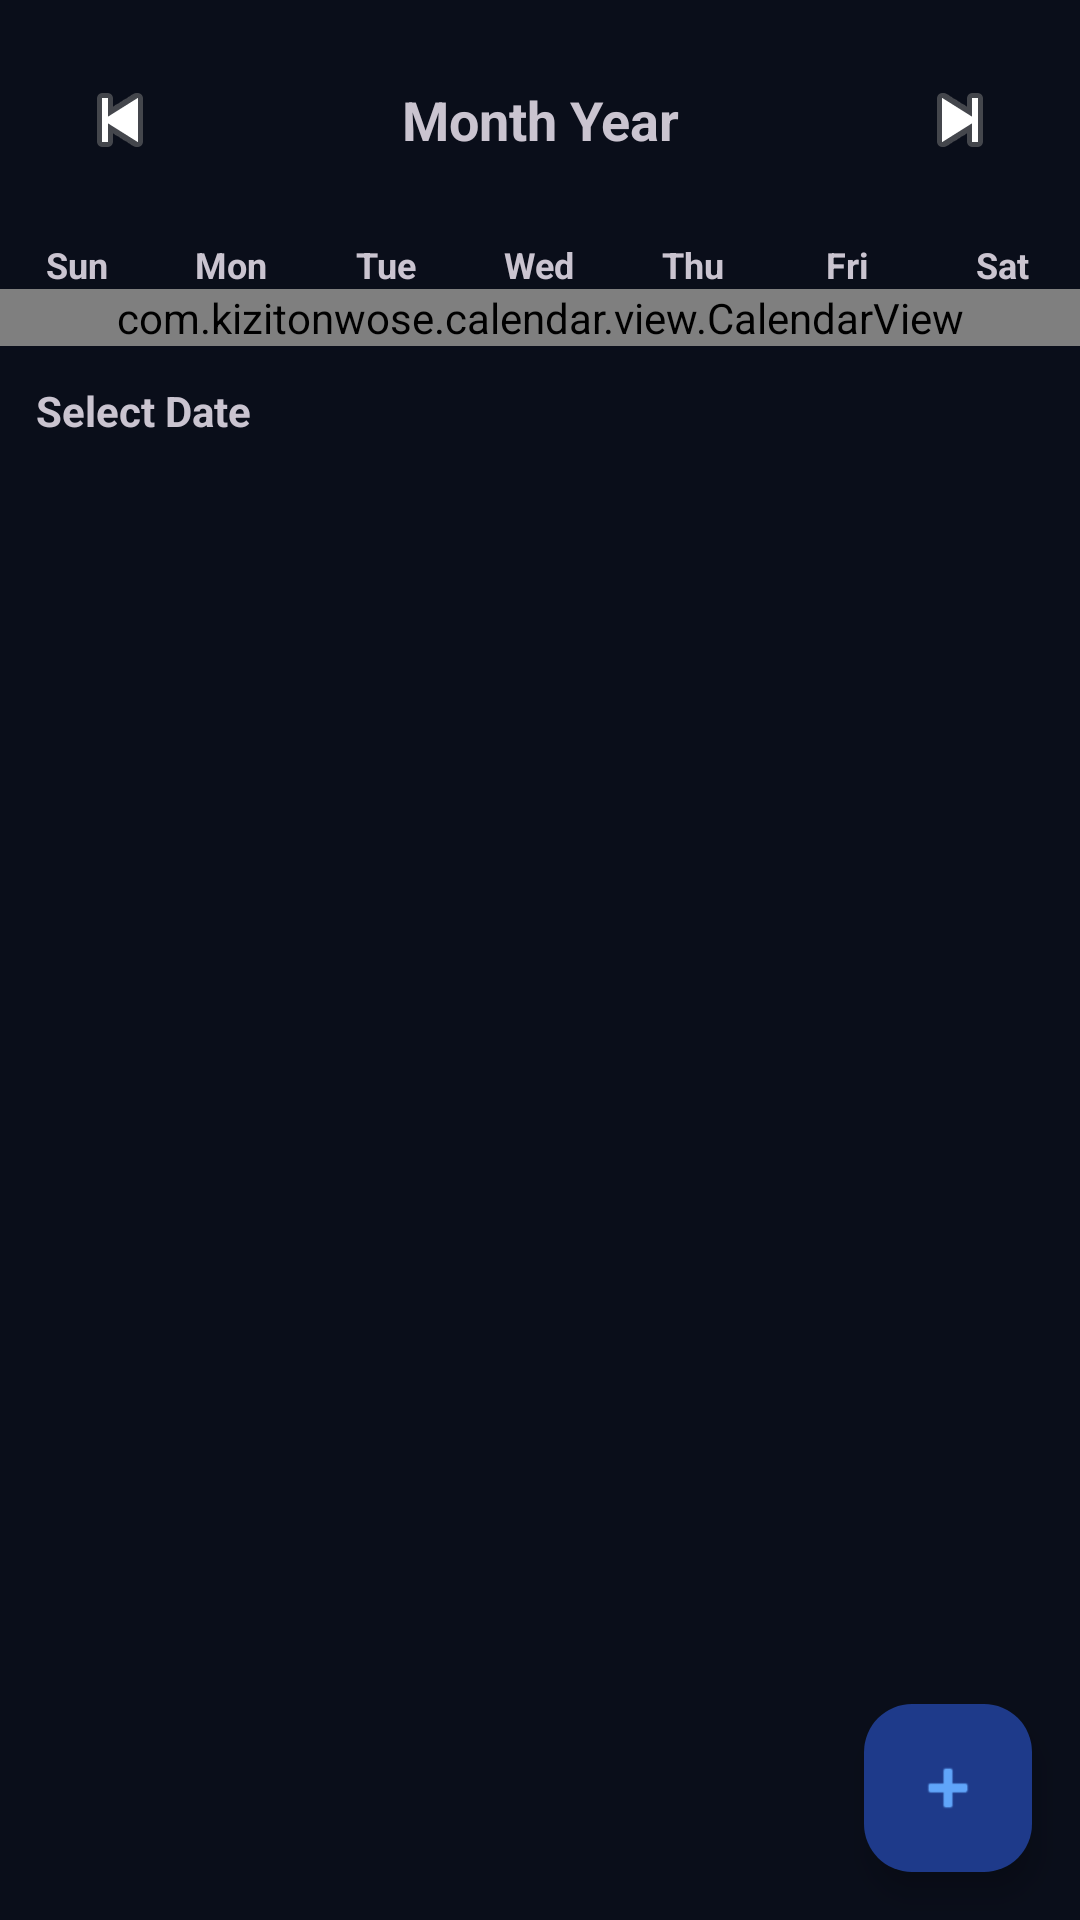

Point at icon controls on the screen. Image size 1080w x 1920h, points as (x,y).
add: (948,1788)
Next Month: (960,120)
Previous Month: (120,120)
